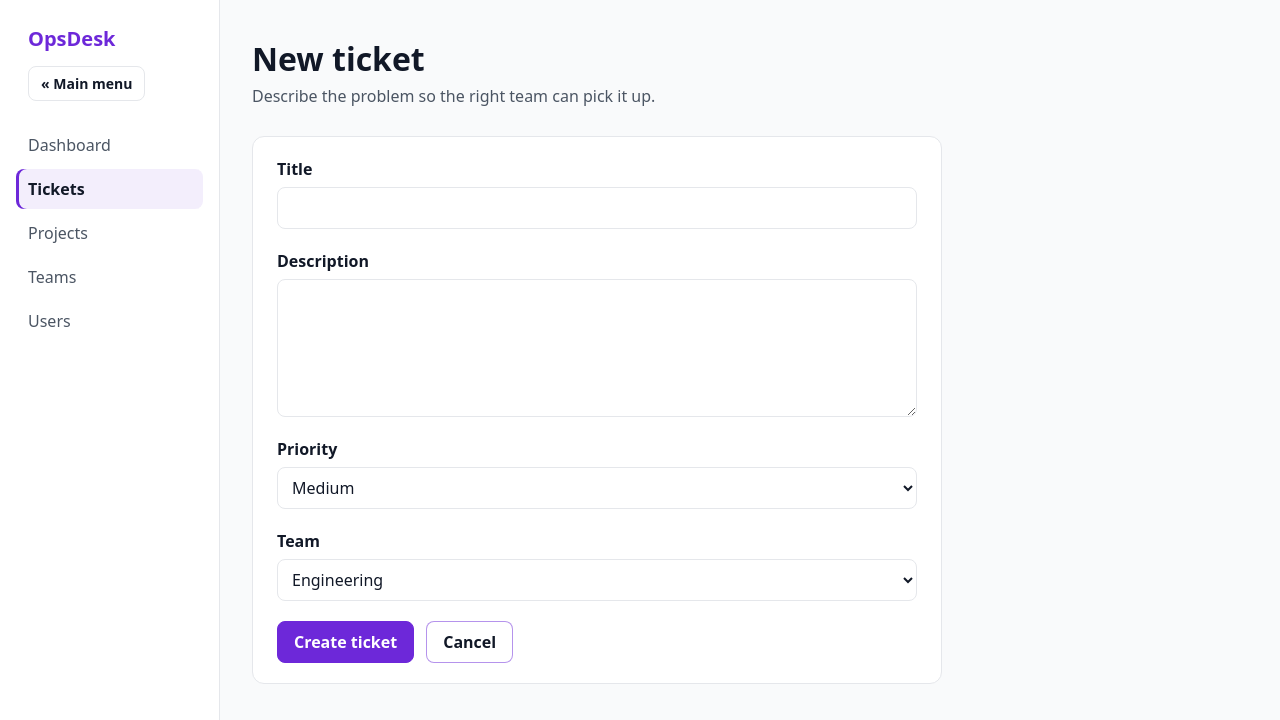
ticket flows › creates a ticket and shows it on its own page and in the list
The image size is (1280, 720).
# Fields are found by their labels, which also proves they're labelled.
In the field labelled "Title": (597, 208) [277, 187, 917, 229], type "Printer on the second floor is jammed"
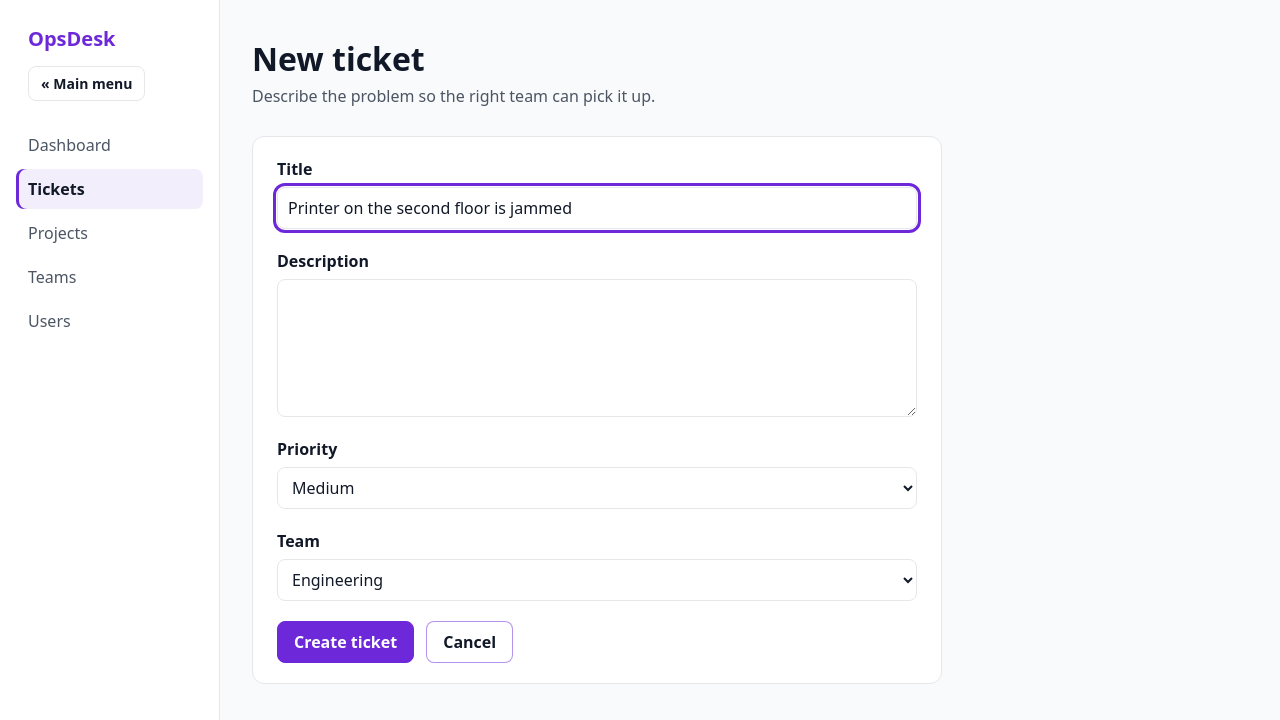
In the text box labelled "Description": (597, 348) [277, 279, 917, 417], type "It shows error E-42 and nothing prints."
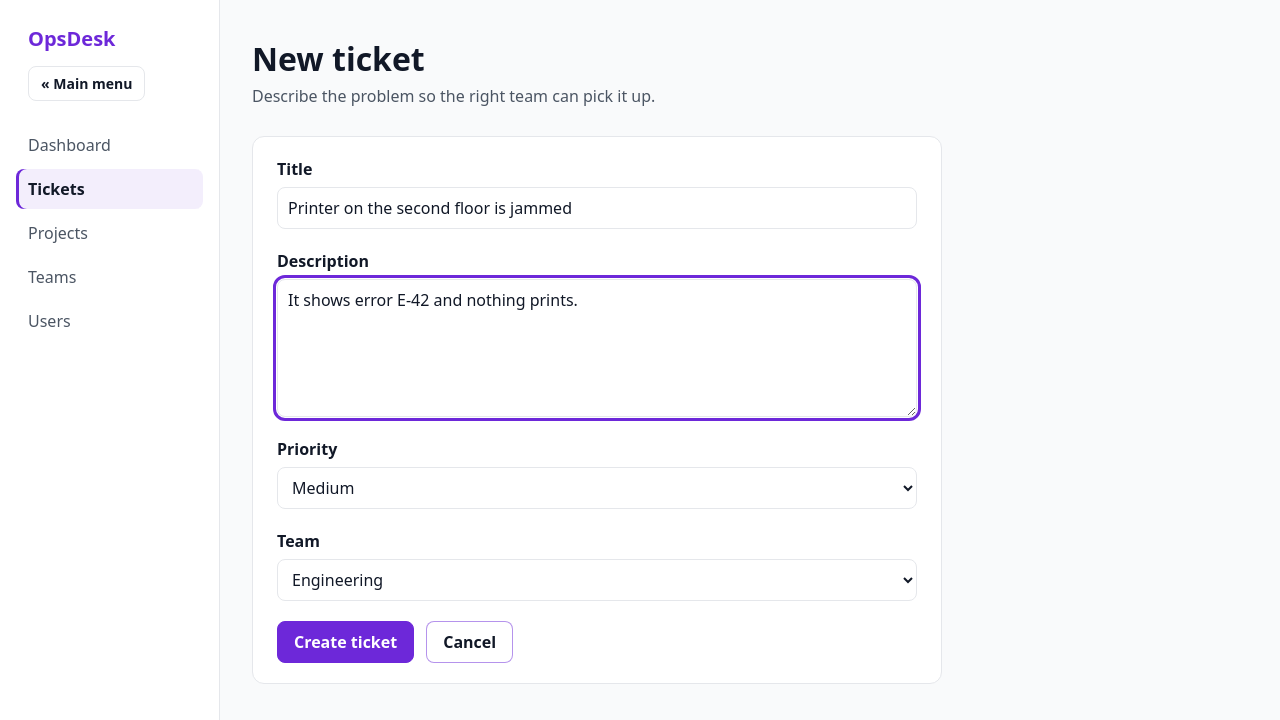
Select "High" in the dropdown labelled "Priority": (597, 488) [277, 467, 917, 509]
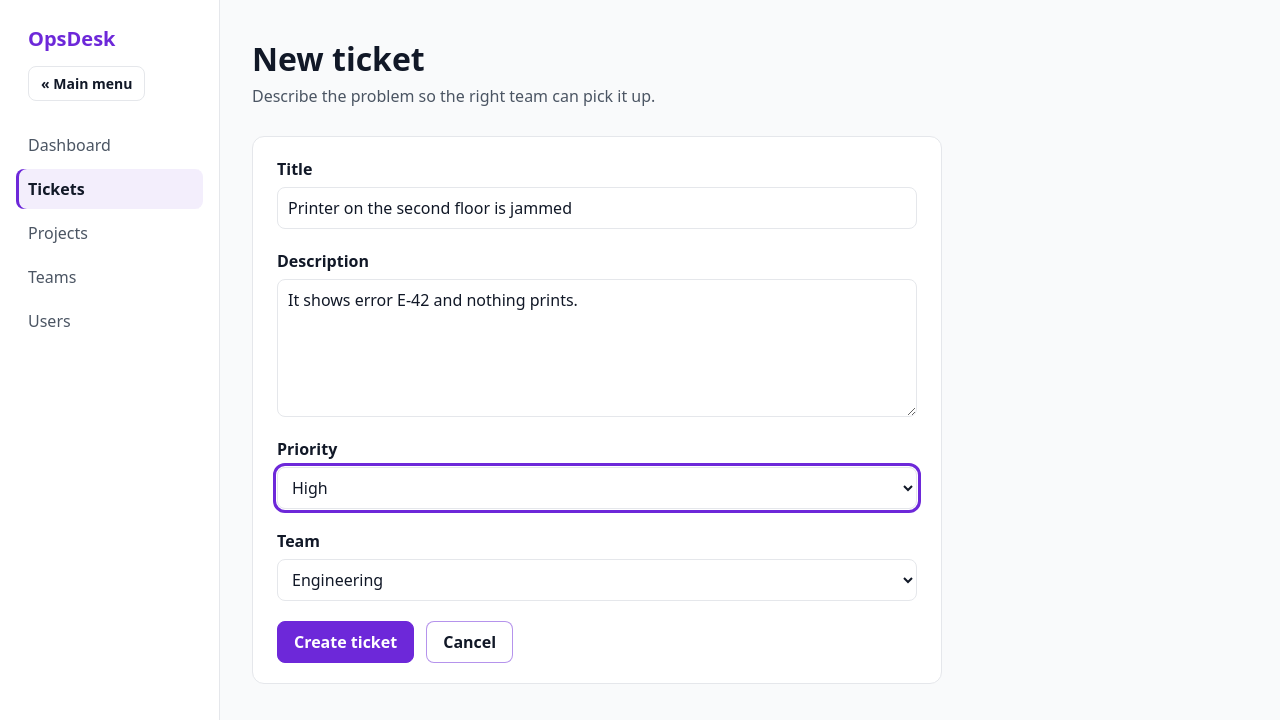
Click the button "Create ticket": (346, 642) [277, 621, 414, 663]
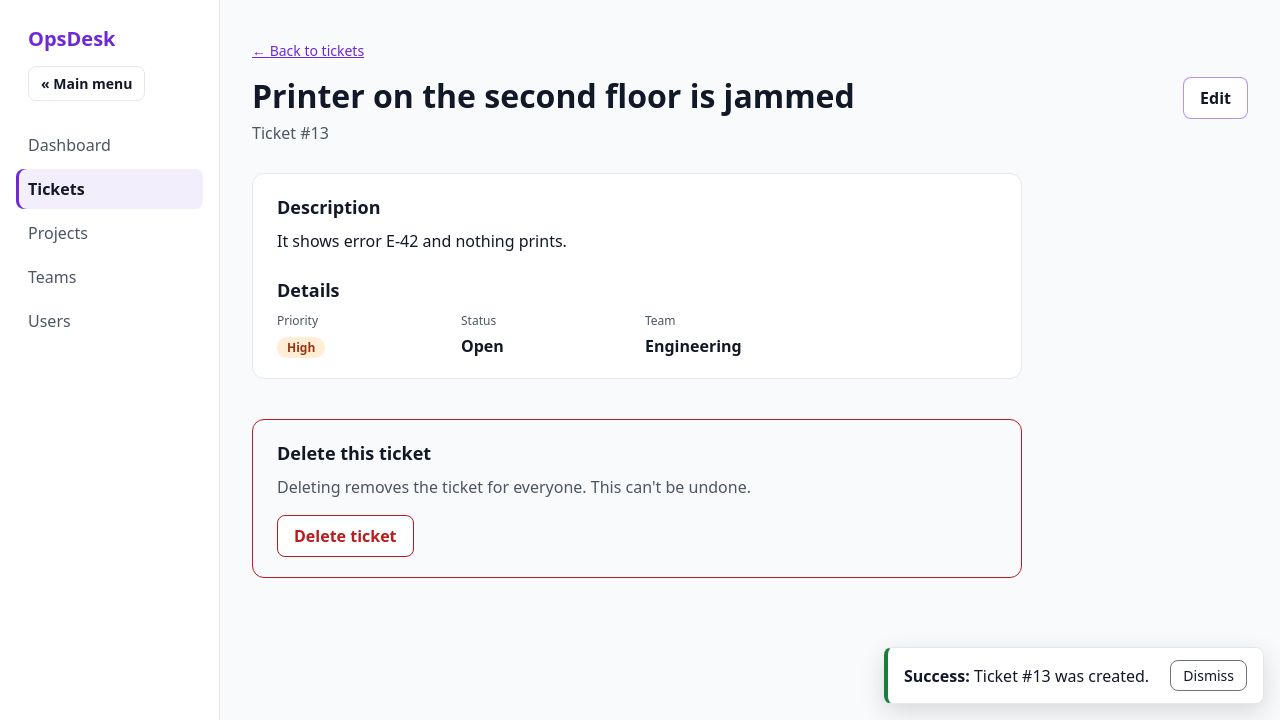
Now the heading "Printer on the second floor is jammed" is shown, box [252, 77, 855, 115]
Now the text "Success: Ticket #13 was created." is shown, box [904, 664, 1149, 688]
# And it's really saved: back on the list, a search finds it.
Click the link "← Back to tickets": (259, 50) [252, 41, 364, 60]
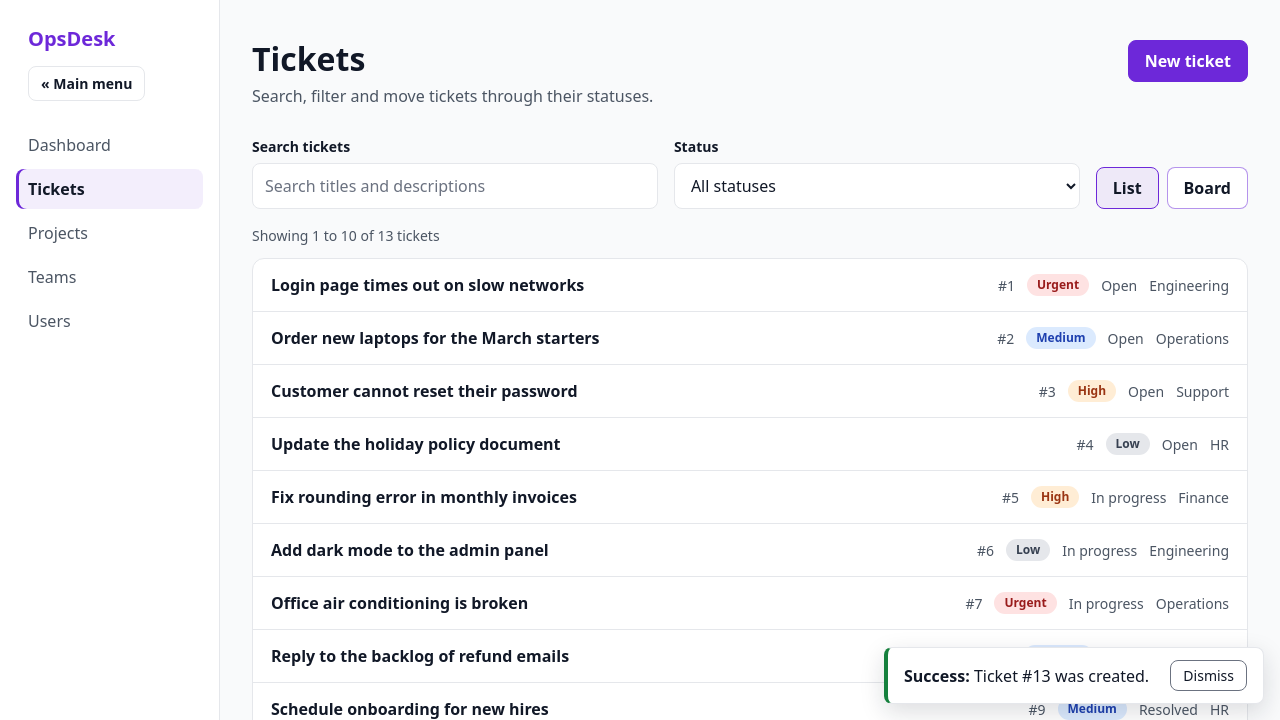
In the search field labelled "Search tickets": (455, 186) [252, 163, 658, 209], type "printer"
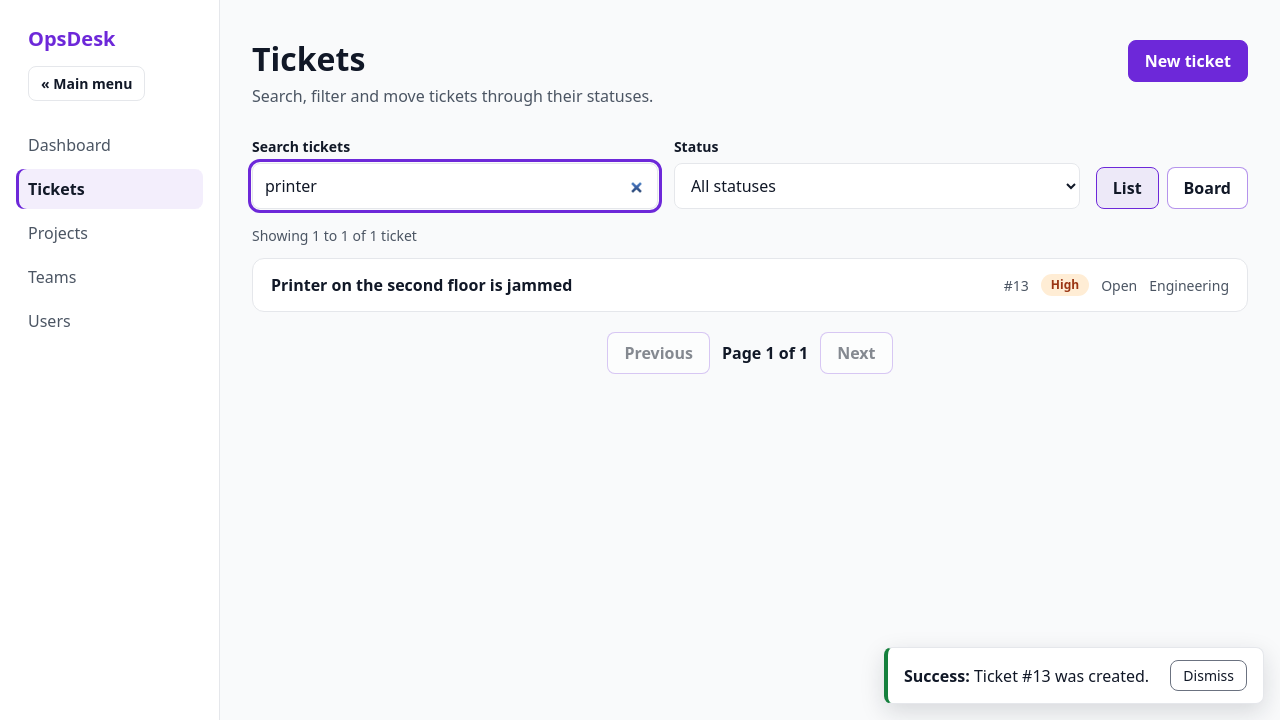
Now the link "Printer on the second floor is jammed" is shown, box [271, 274, 572, 296]
